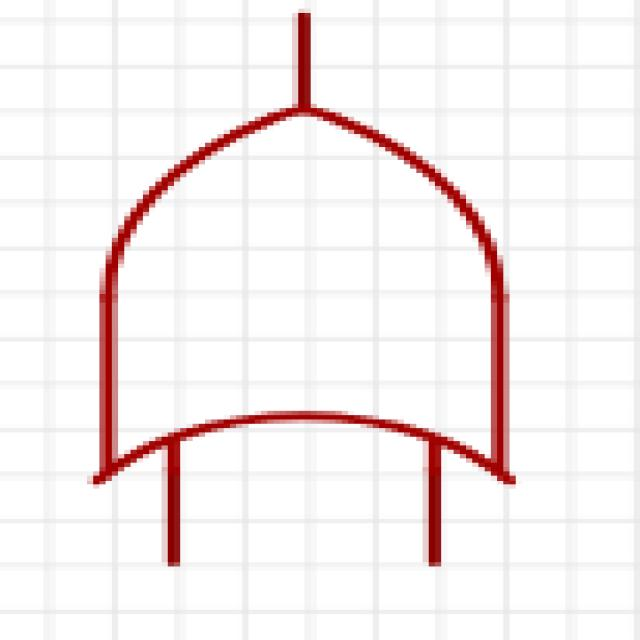or: (60, 2, 569, 596)
